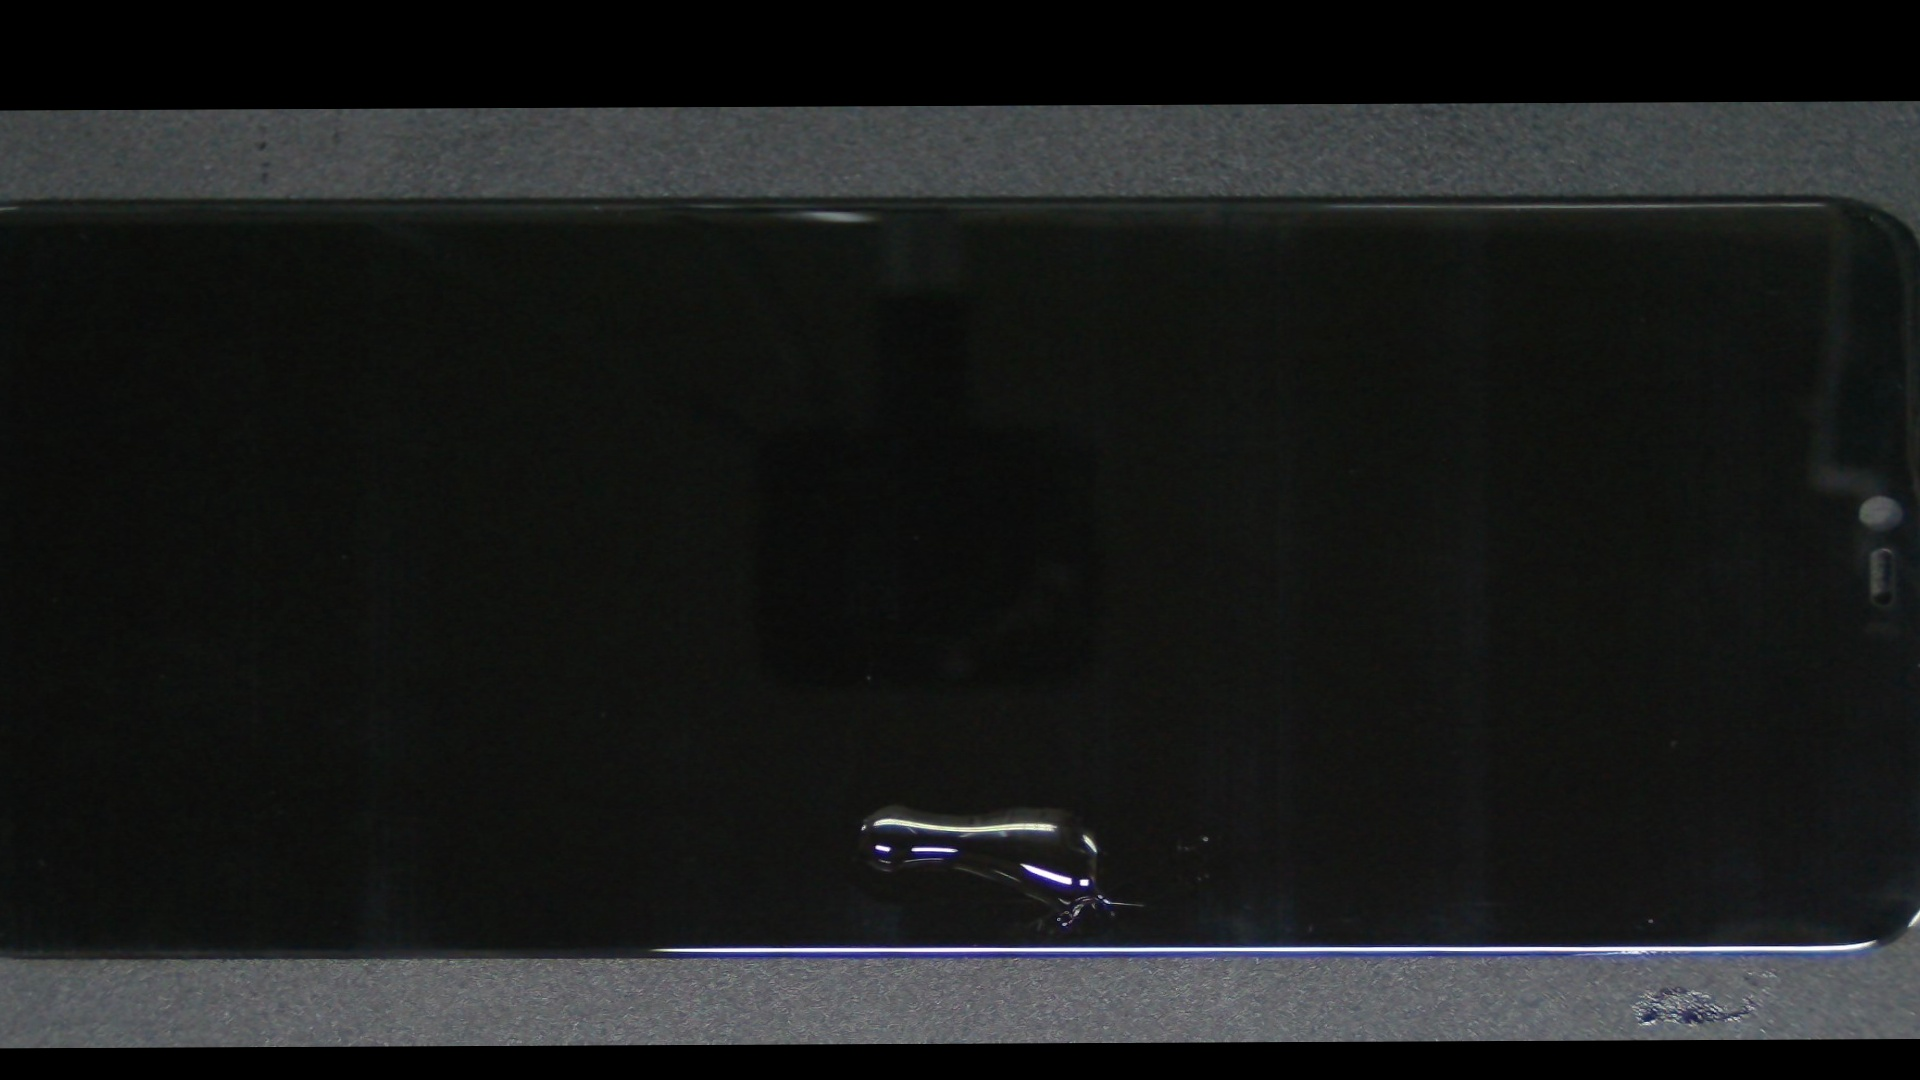oil: (378, 451, 1395, 1047)
